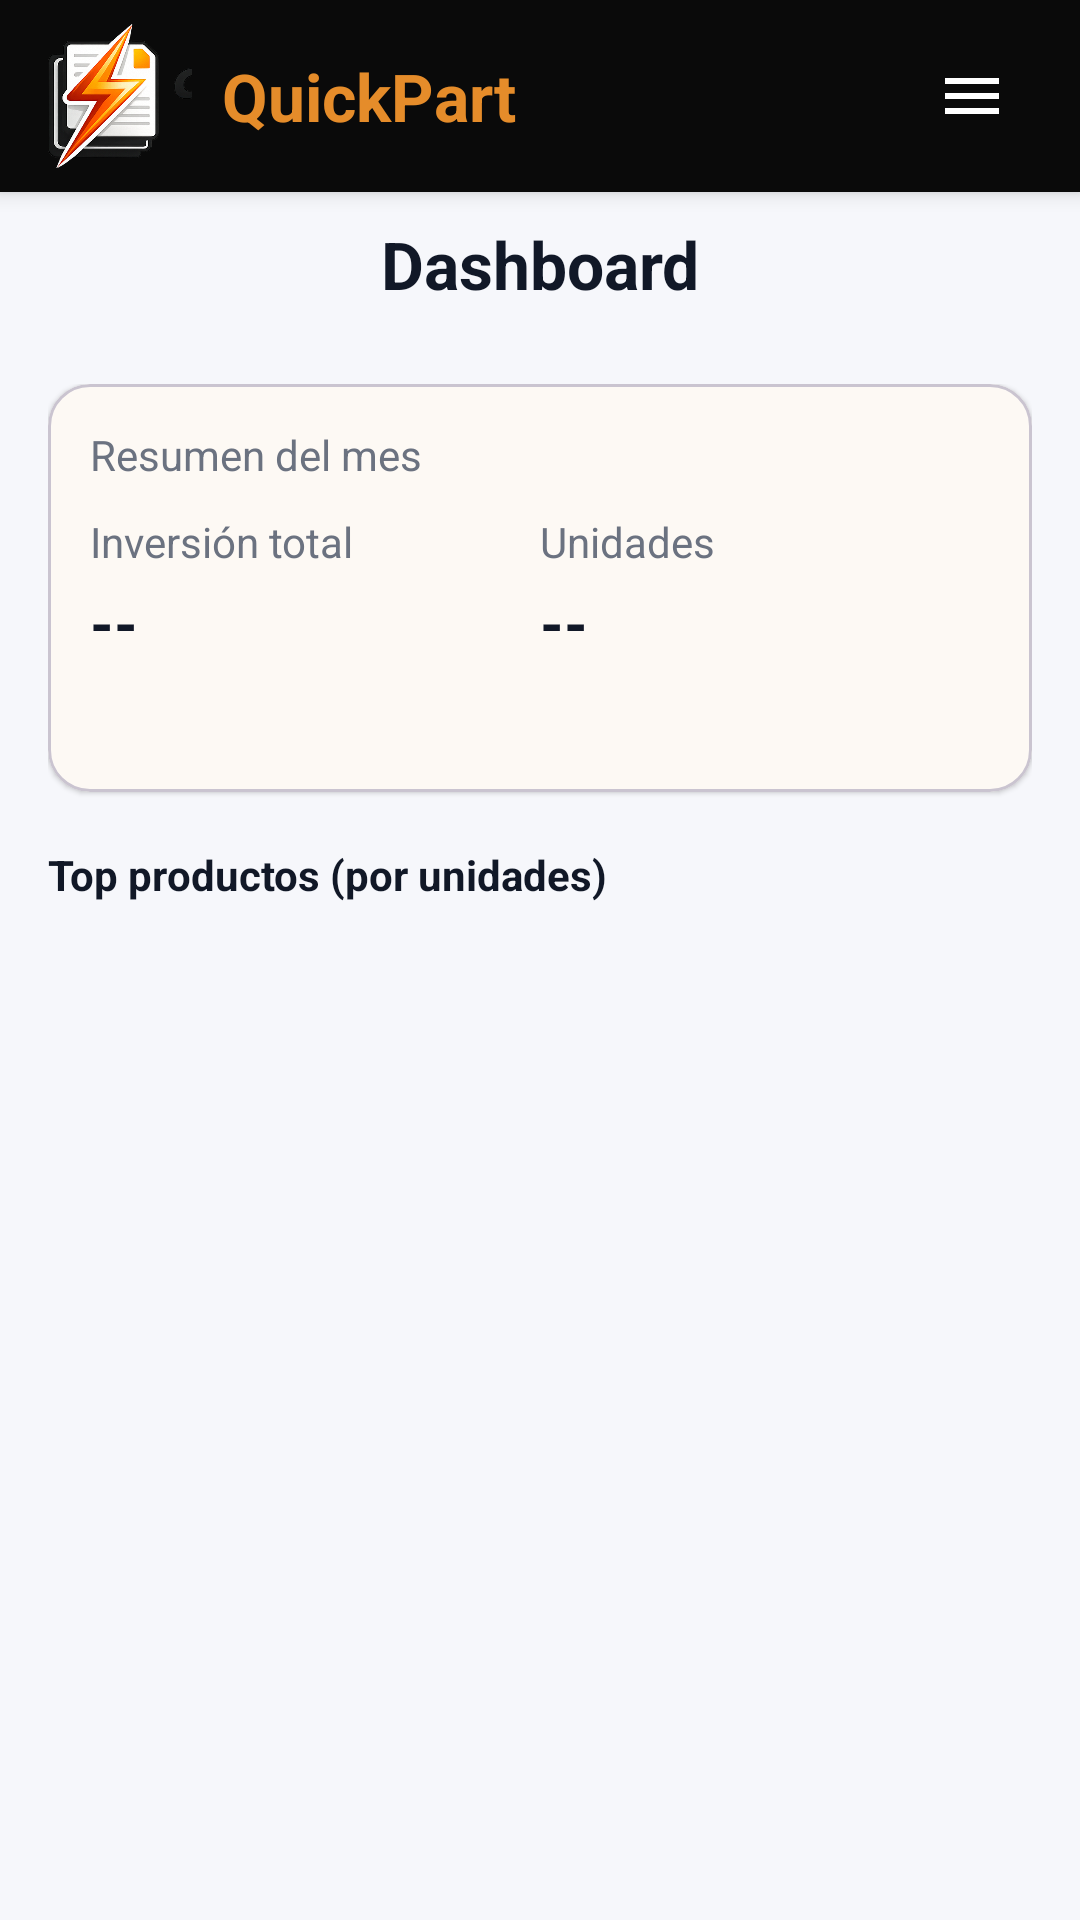

Named icons in this screenshot (1080×1920) and their centers, point (x, y):
Menu: point (972, 96)
